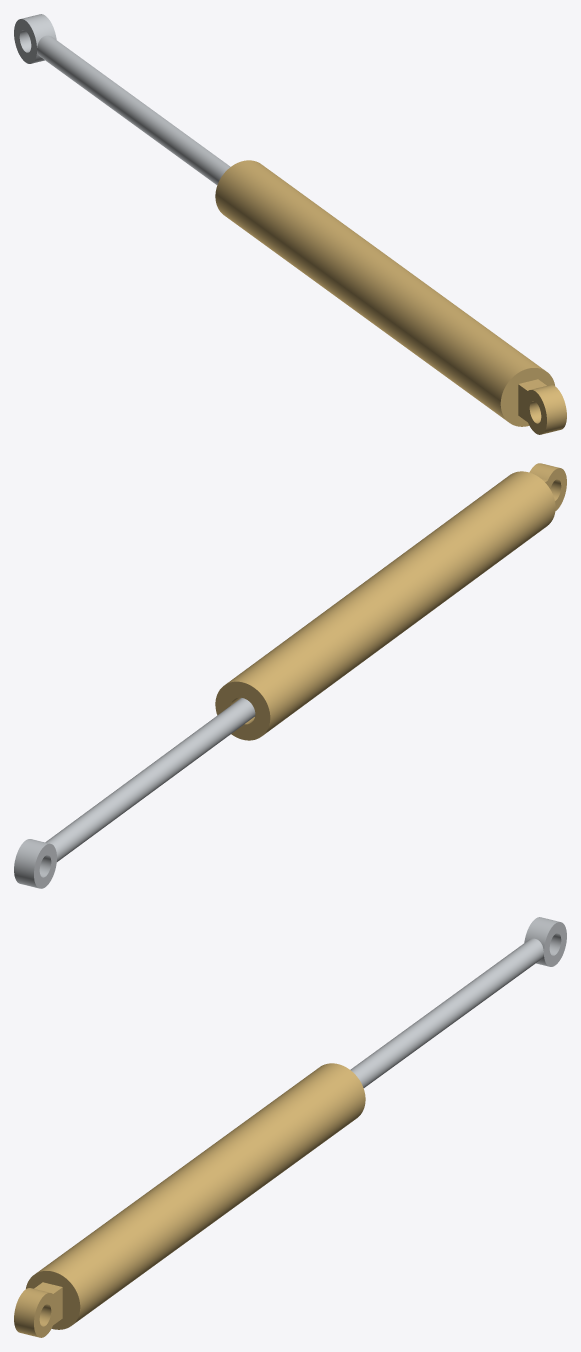
Rendered from step_02.glb.
3 views of the same model, one above another, from view 1: azimuth 30°, elevation 25°; view 2: azimuth 150°, elevation 25°; view 3: azimuth 330°, elevation 25° (orthographic).
Visible parts, largest first — view 1: part__recline lock, part__recline lock rod; view 2: part__recline lock, part__recline lock rod; view 3: part__recline lock, part__recline lock rod.
Boxes of the visible parts, x1,y1,x2,y2 form: part__recline lock: [215, 160, 566, 434]; part__recline lock rod: [14, 14, 230, 184]; part__recline lock: [215, 463, 566, 740]; part__recline lock rod: [14, 698, 255, 888]; part__recline lock: [14, 1063, 365, 1337]; part__recline lock rod: [350, 917, 566, 1087].
Size of the model in its own units: 21.99 by 22.51 by 370.
